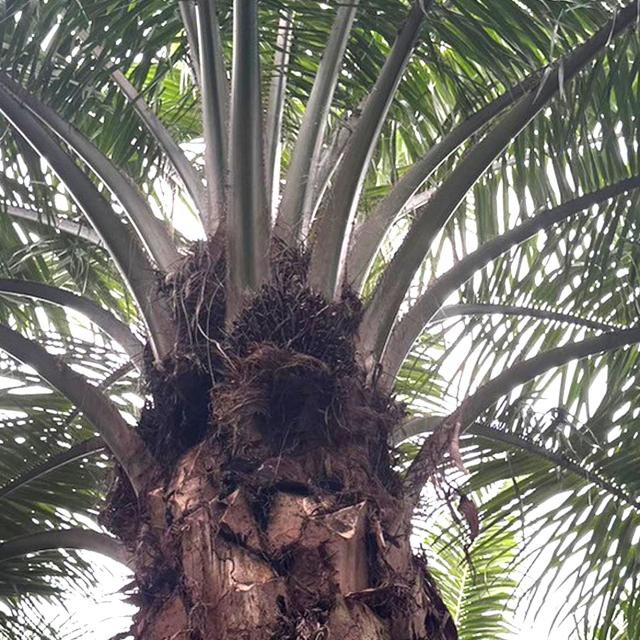almost: (220, 278, 356, 405)
